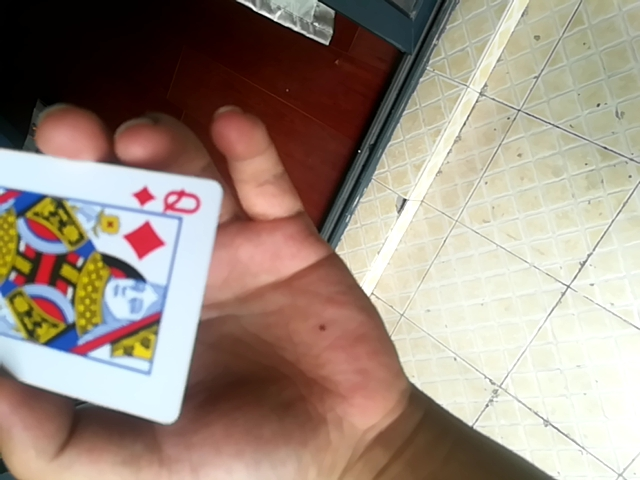fk q: (0, 125, 224, 424)
